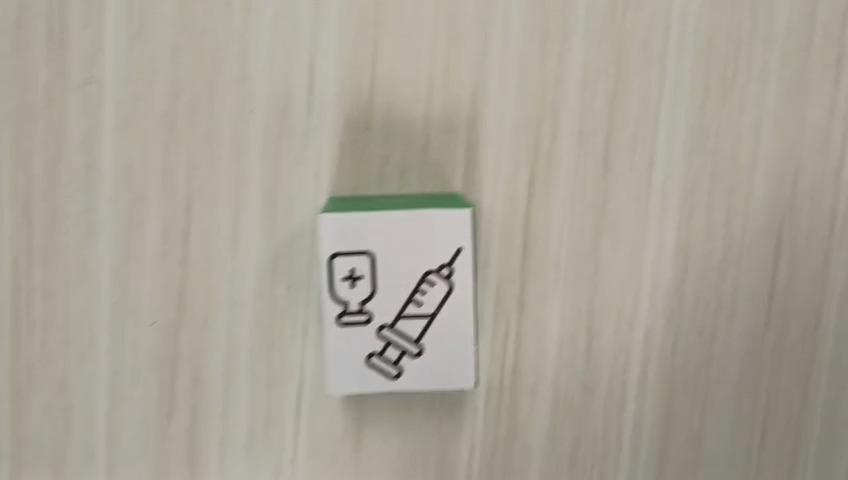antiseptic cream: (316, 191, 479, 397)
